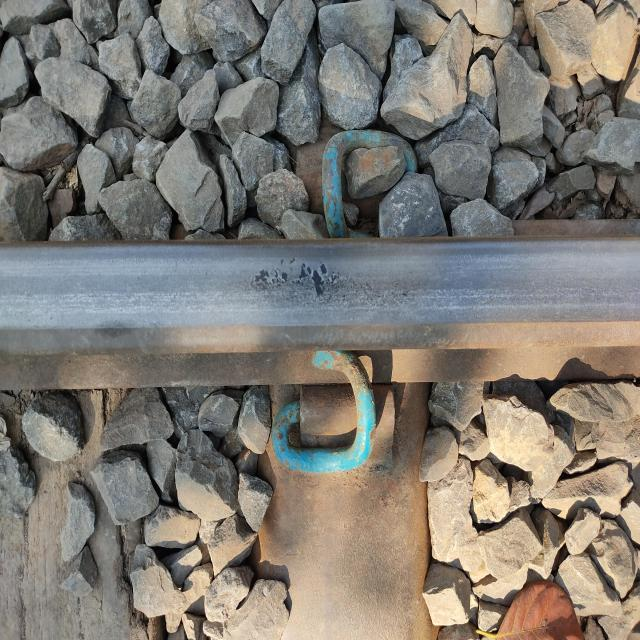squats_high: (252, 255, 342, 303)
